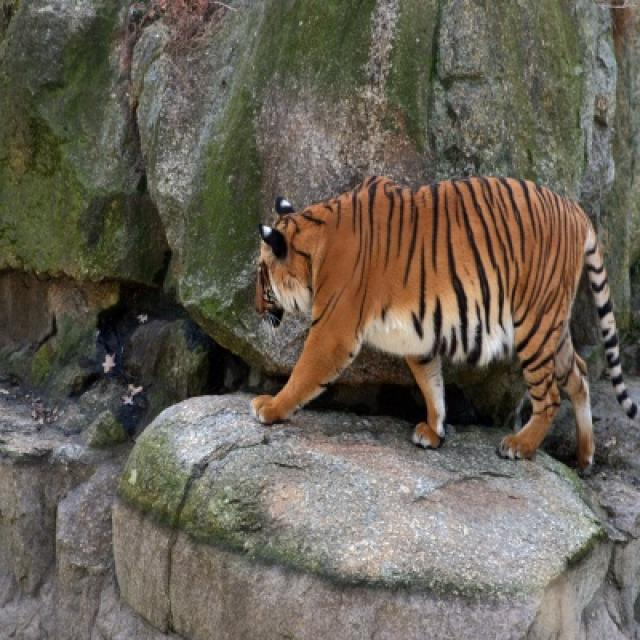Tiger: (251, 174, 638, 475)
